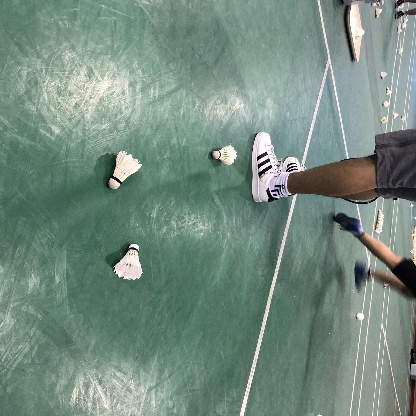ball_single: (108, 150, 142, 189), (113, 243, 143, 280), (212, 145, 237, 165), (375, 209, 384, 233), (376, 8, 382, 18), (356, 313, 364, 320), (380, 72, 387, 79), (386, 87, 392, 95), (381, 117, 387, 123), (383, 101, 389, 107), (393, 113, 399, 119), (401, 116, 406, 120)
